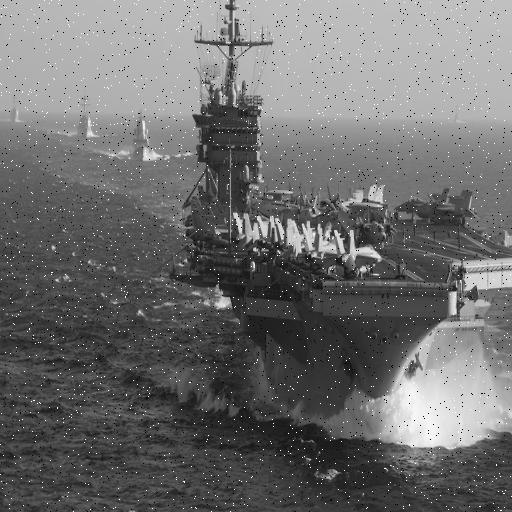Portanaves: (182, 1, 512, 445)
